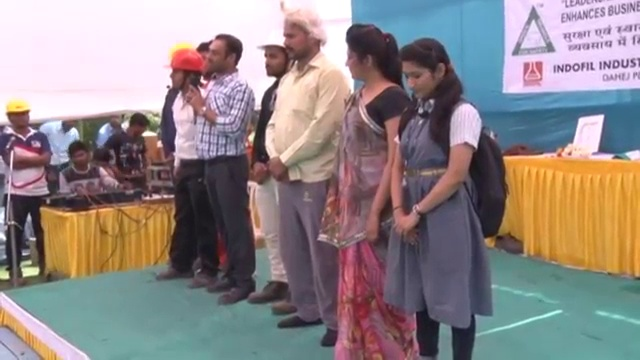helmet: (163, 46, 205, 74), (256, 26, 287, 52), (3, 100, 32, 118)
helmet_off: (395, 34, 454, 106), (340, 23, 397, 90), (276, 6, 327, 62), (200, 32, 243, 82), (67, 141, 90, 173), (195, 40, 214, 76), (125, 115, 151, 139), (60, 117, 79, 134), (102, 119, 120, 135)
helmet_on: (162, 45, 205, 93), (255, 27, 288, 77), (2, 98, 32, 135)
person: (388, 32, 511, 360), (267, 9, 347, 348), (334, 29, 414, 359), (184, 32, 254, 306), (156, 44, 220, 291), (253, 29, 300, 318), (0, 99, 52, 284), (58, 141, 126, 195), (38, 118, 80, 188), (100, 116, 152, 172), (95, 115, 129, 147)
